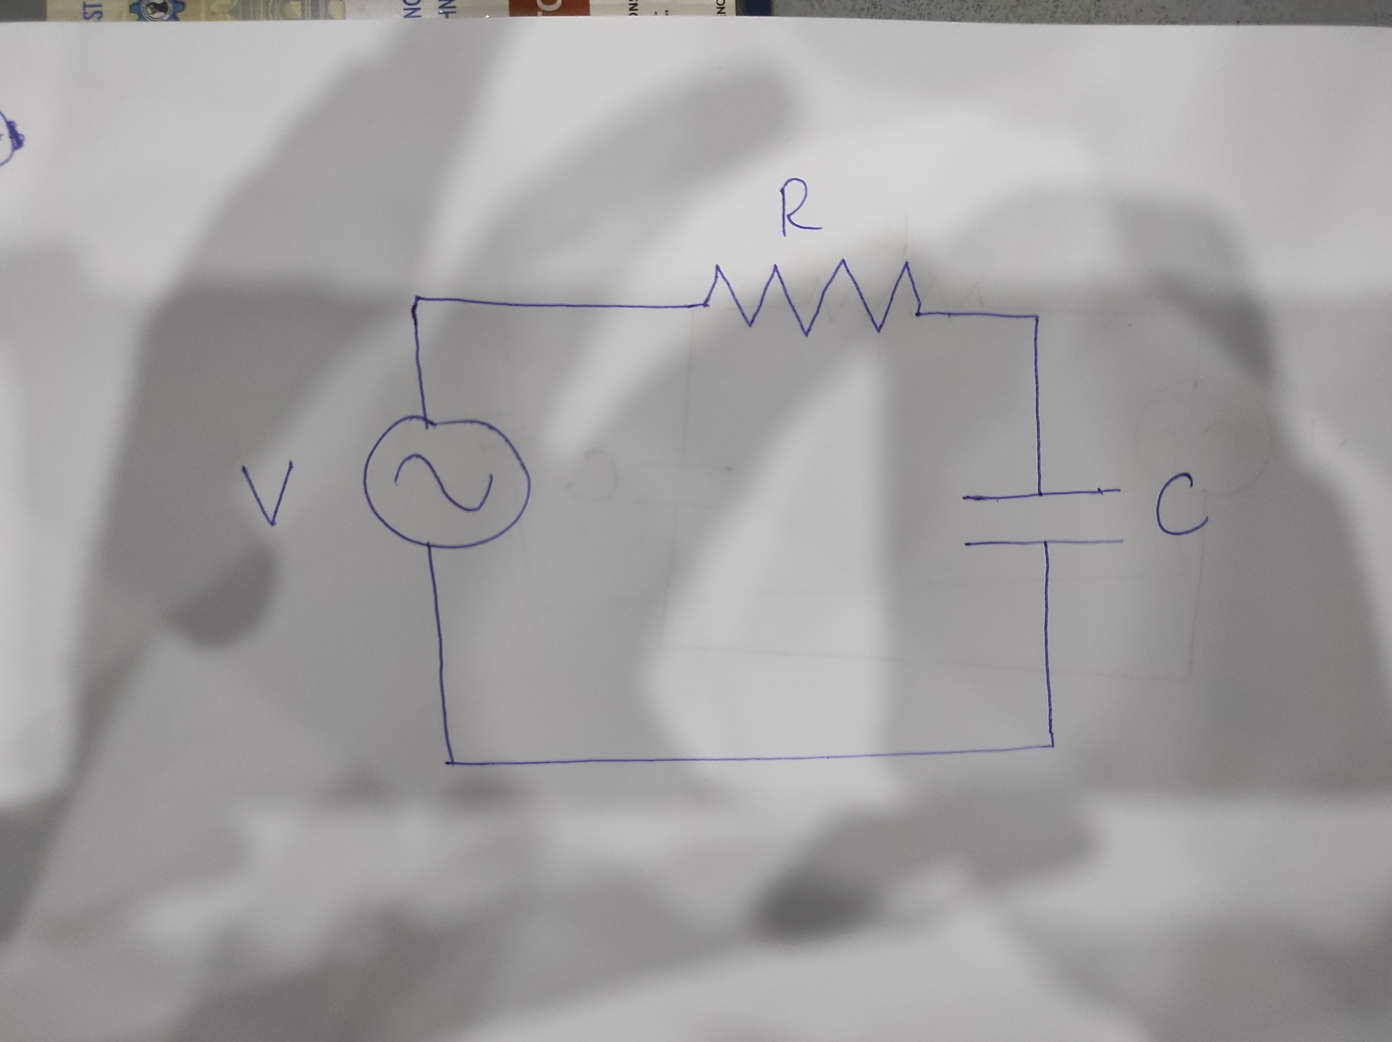capacitor.unpolarized: (956, 482, 1127, 551)
junction: (401, 282, 432, 316), (1020, 305, 1047, 332), (437, 751, 464, 774), (1039, 734, 1063, 756)
resistor: (697, 225, 953, 348)
text: (693, 225, 939, 349), (1152, 468, 1210, 539), (239, 459, 295, 528)
voltage.dc_ac: (358, 413, 540, 555)
